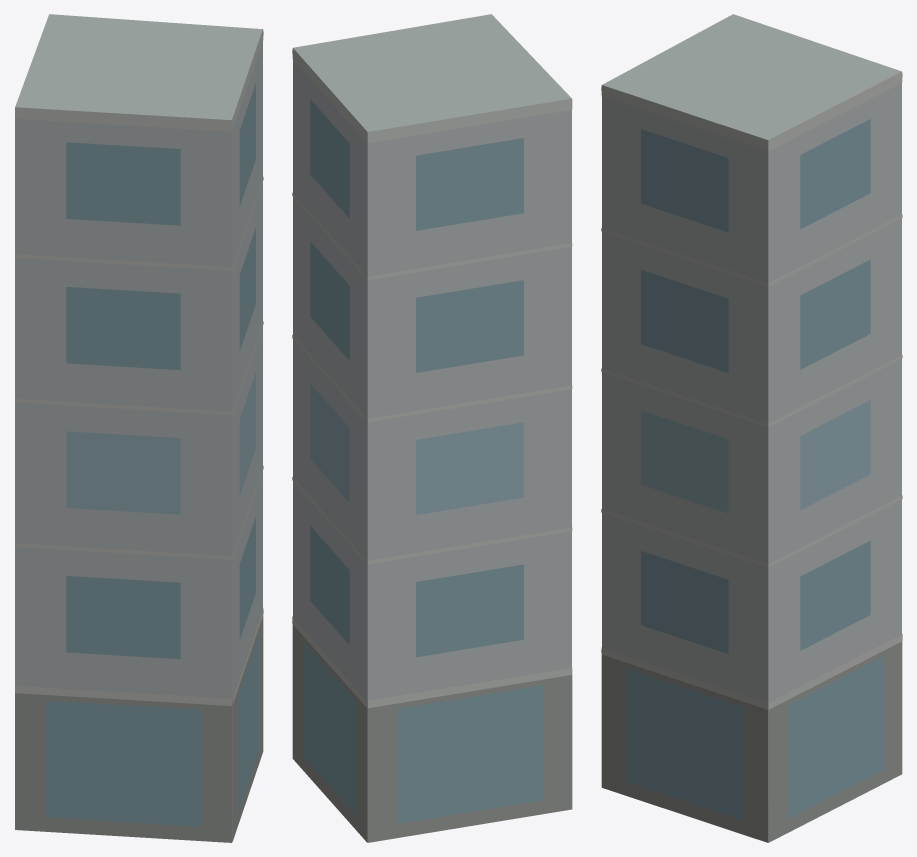
File: survey-upis-32696251.glb
3 renders of one model, left to right at view 1: azimuth 30°, elevation 25°; view 2: azimuth 150°, elevation 25°; view 3: azimuth 270°, elevation 25°, orthographic. The views are drawn at different scales.
Parts seen in each view (by area): view 1: survey-upis-32696251.tmp; view 2: survey-upis-32696251.tmp; view 3: survey-upis-32696251.tmp.
Part boxes in pixels (x1,y1,x2,y2): survey-upis-32696251.tmp: (15, 14, 263, 842); survey-upis-32696251.tmp: (292, 14, 572, 842); survey-upis-32696251.tmp: (601, 14, 902, 842).
Size of the model in its own units: 5.89 by 15.25 by 5.93.
